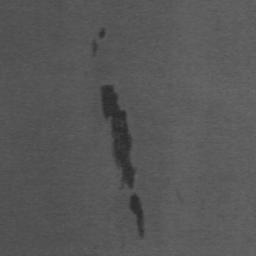Iron scale compression: (100, 85, 134, 189), (129, 194, 144, 240), (89, 35, 97, 58), (99, 28, 105, 38)
